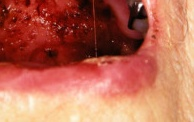SJS-TEN: (0, 0, 132, 68)
